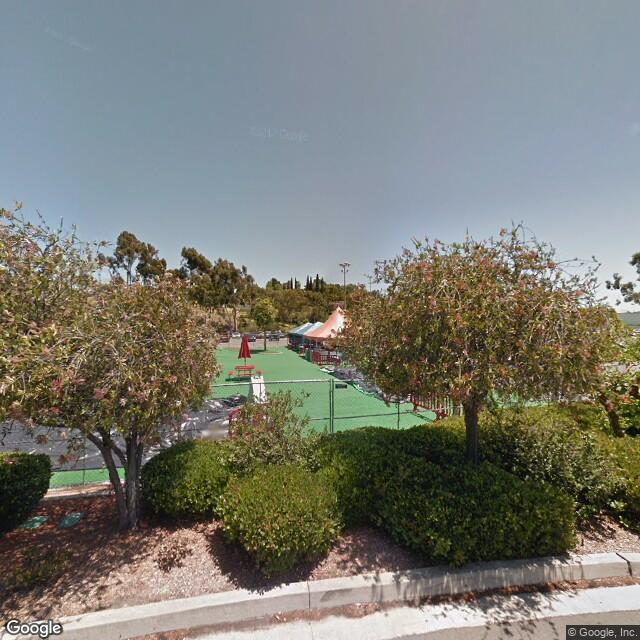litter: (350, 602, 374, 608), (274, 611, 286, 621), (340, 553, 352, 561), (161, 631, 171, 640), (338, 542, 349, 548)
